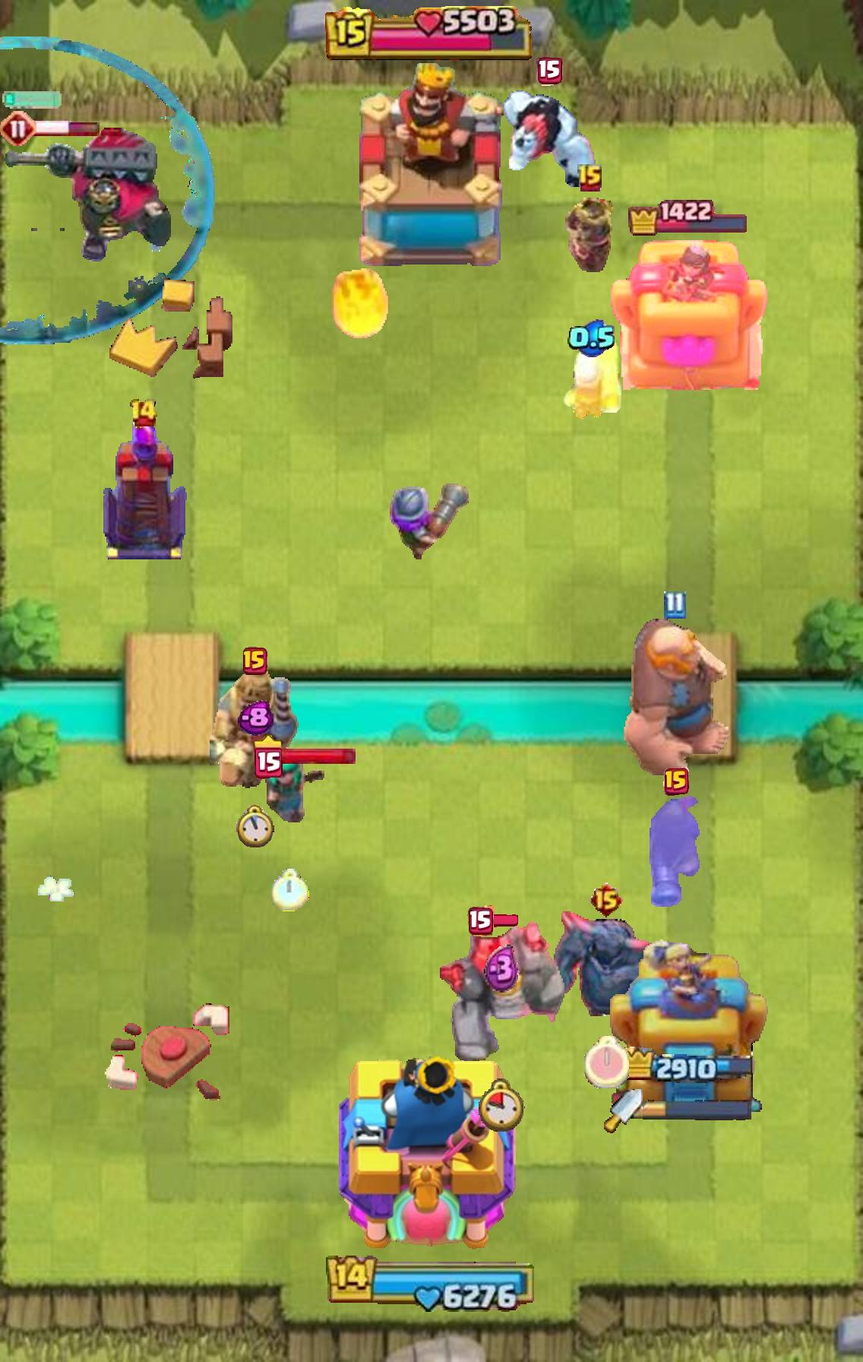bar: (279, 746, 356, 766), (18, 120, 100, 137), (491, 915, 518, 928)
bar-level: (252, 735, 283, 779), (0, 110, 36, 147), (589, 882, 624, 918), (129, 398, 158, 429), (467, 906, 495, 937), (577, 163, 604, 194), (537, 57, 563, 86), (663, 767, 689, 796), (243, 647, 267, 675)
